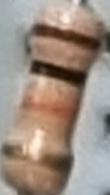Black: (26, 58, 88, 90)
Brown: (25, 20, 102, 54)
Side-Silver: (3, 139, 77, 180), (19, 95, 79, 124)
